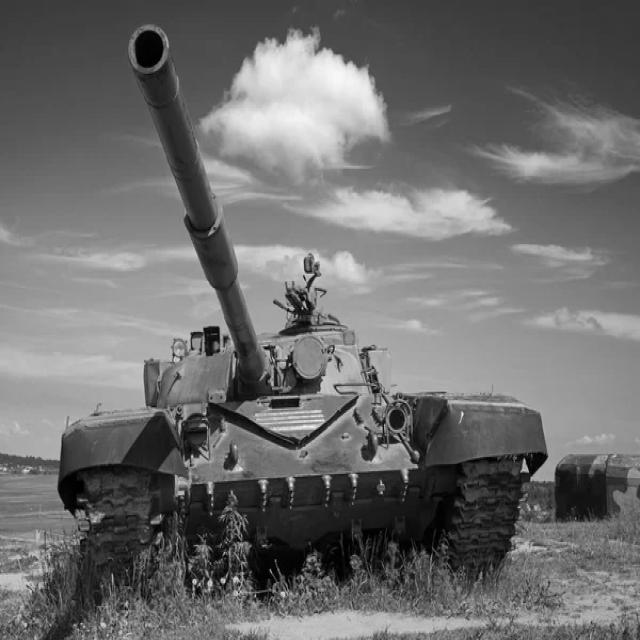Tank: (42, 12, 552, 578)
